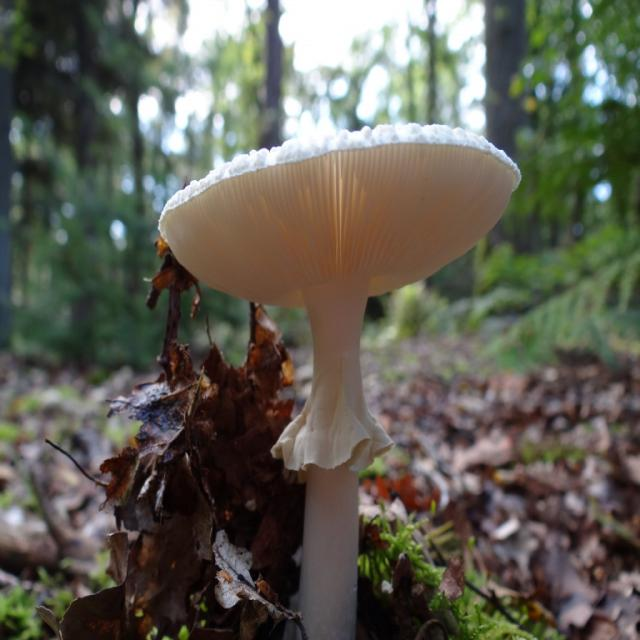mushroom: (162, 123, 520, 640)
